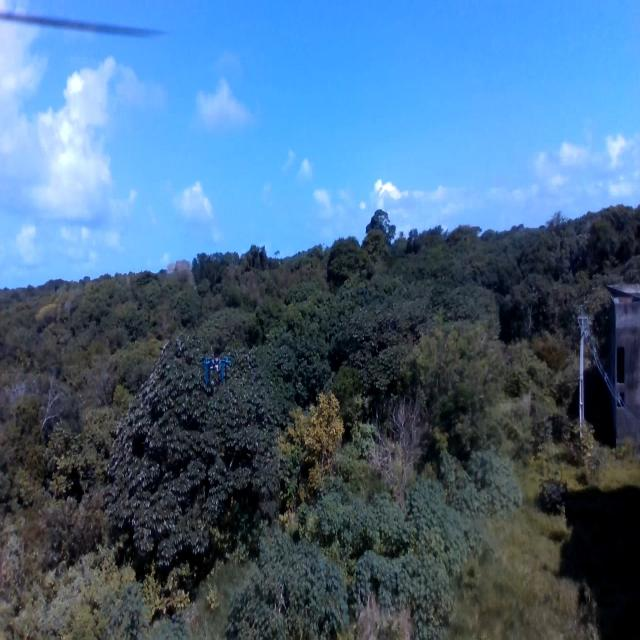-uav-: (191, 336, 241, 402)
